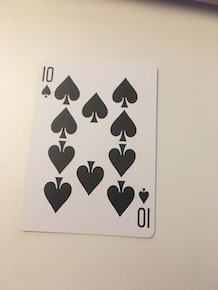TenOfSpades: (19, 57, 160, 241)
